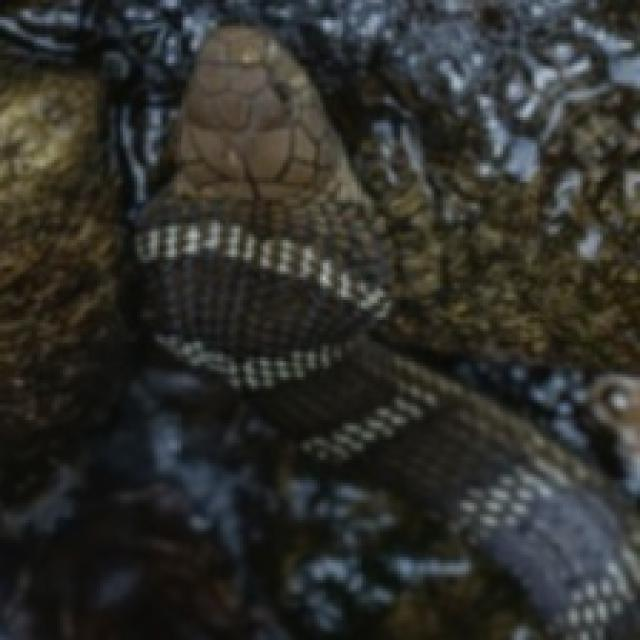king cobra: (0, 0, 637, 637), (137, 26, 631, 637)
